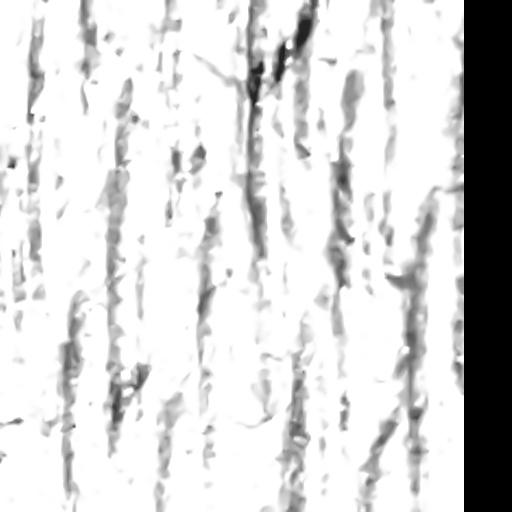egg: (294, 0, 315, 52), (247, 62, 263, 104), (275, 42, 285, 81)
